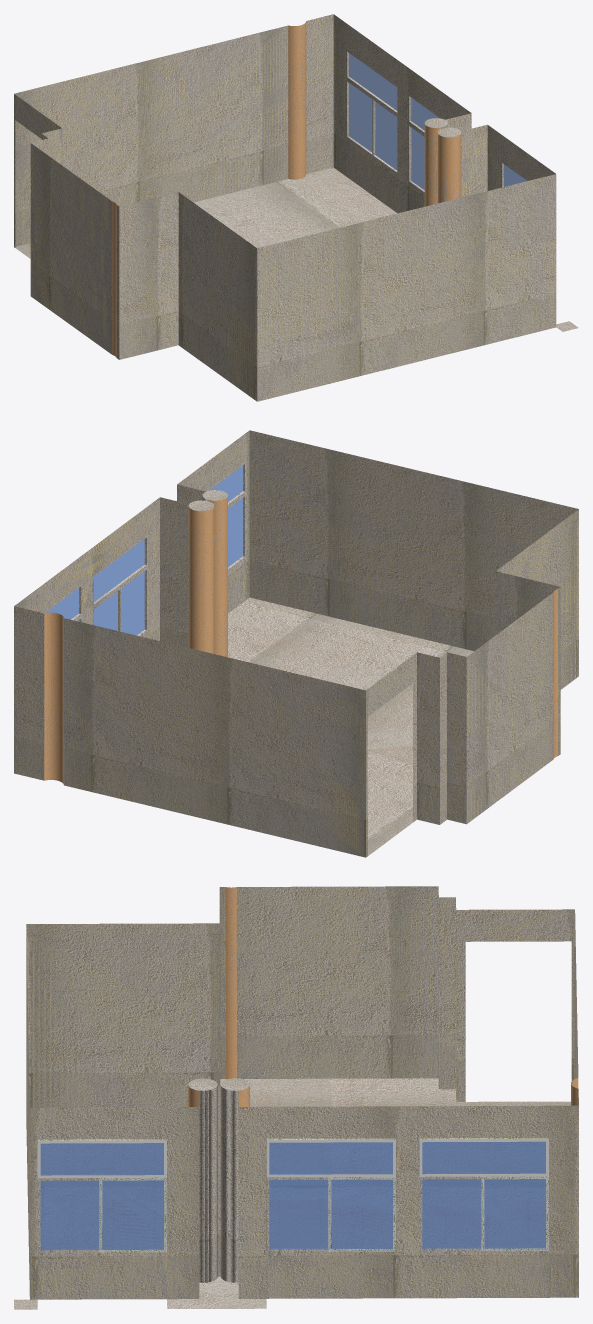
File: AUL013.obj
The picture shows the model from 3 angles, top to bottom: view 1: azimuth 30°, elevation 25°; view 2: azimuth 150°, elevation 25°; view 3: azimuth 270°, elevation 25°; orthographic projection. The views are drawn at different scales.
Visible parts, largest first — view 1: Mesh23 AUL013 Model, Mesh11 ventana1_2_2 AUL013 Model, Mesh1 Group1 AUL013 Model, Mesh17 ventana1_2_3 AUL013 Model, Mesh2 Group1 AUL013 Model; view 2: Mesh23 AUL013 Model, Mesh17 ventana1_2_3 AUL013 Model, Mesh2 Group1 AUL013 Model, Mesh1 Group1 AUL013 Model, Mesh5 ventana1_2_1 AUL013 Model, Mesh11 ventana1_2_2 AUL013 Model; view 3: Mesh23 AUL013 Model, Mesh17 ventana1_2_3 AUL013 Model, Mesh5 ventana1_2_1 AUL013 Model, Mesh11 ventana1_2_2 AUL013 Model.
Boxes of the visible parts, x1,y1,x2,y2 form: Mesh23 AUL013 Model: (14,14,578,401); Mesh11 ventana1_2_2 AUL013 Model: (346,49,398,174); Mesh1 Group1 AUL013 Model: (437,127,461,203); Mesh17 ventana1_2_3 AUL013 Model: (408,93,444,193); Mesh2 Group1 AUL013 Model: (424,118,447,206); Mesh23 AUL013 Model: (14,430,578,857); Mesh17 ventana1_2_3 AUL013 Model: (92,534,147,636); Mesh2 Group1 AUL013 Model: (188,500,214,653); Mesh1 Group1 AUL013 Model: (202,490,227,657); Mesh5 ventana1_2_1 AUL013 Model: (205,461,246,571); Mesh11 ventana1_2_2 AUL013 Model: (42,583,82,622); Mesh23 AUL013 Model: (14,886,578,1309); Mesh17 ventana1_2_3 AUL013 Model: (266,1138,395,1251); Mesh5 ventana1_2_1 AUL013 Model: (37,1139,166,1252); Mesh11 ventana1_2_2 AUL013 Model: (419,1137,548,1251).
Size of the model in its own units: 9.3 by 3.6 by 9.6.
8 materials, 2 textured.
